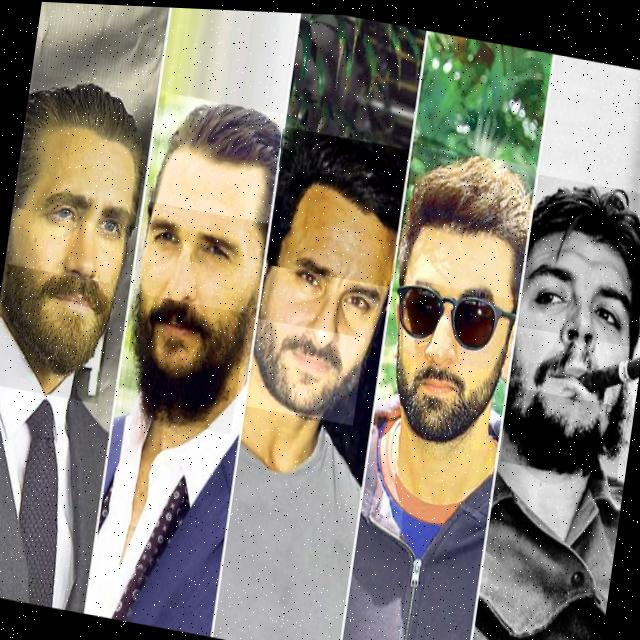beard: (132, 293, 242, 421), (1, 273, 113, 393), (253, 317, 361, 416), (505, 383, 622, 469), (397, 355, 498, 438)
hair: (529, 182, 640, 342), (271, 131, 402, 263), (400, 152, 530, 276), (15, 83, 142, 209), (153, 102, 280, 220)
